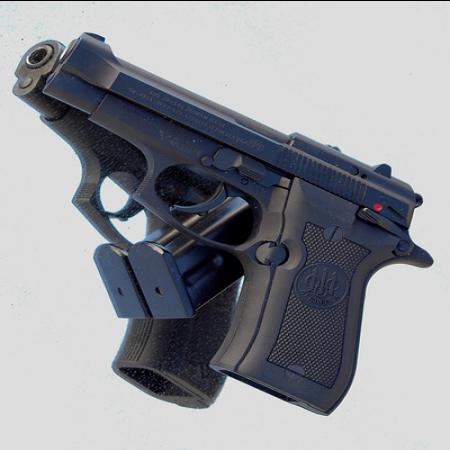Pistol: (16, 34, 440, 418)
